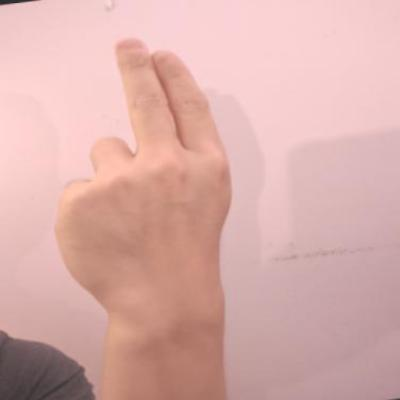hand: (34, 23, 250, 316)
